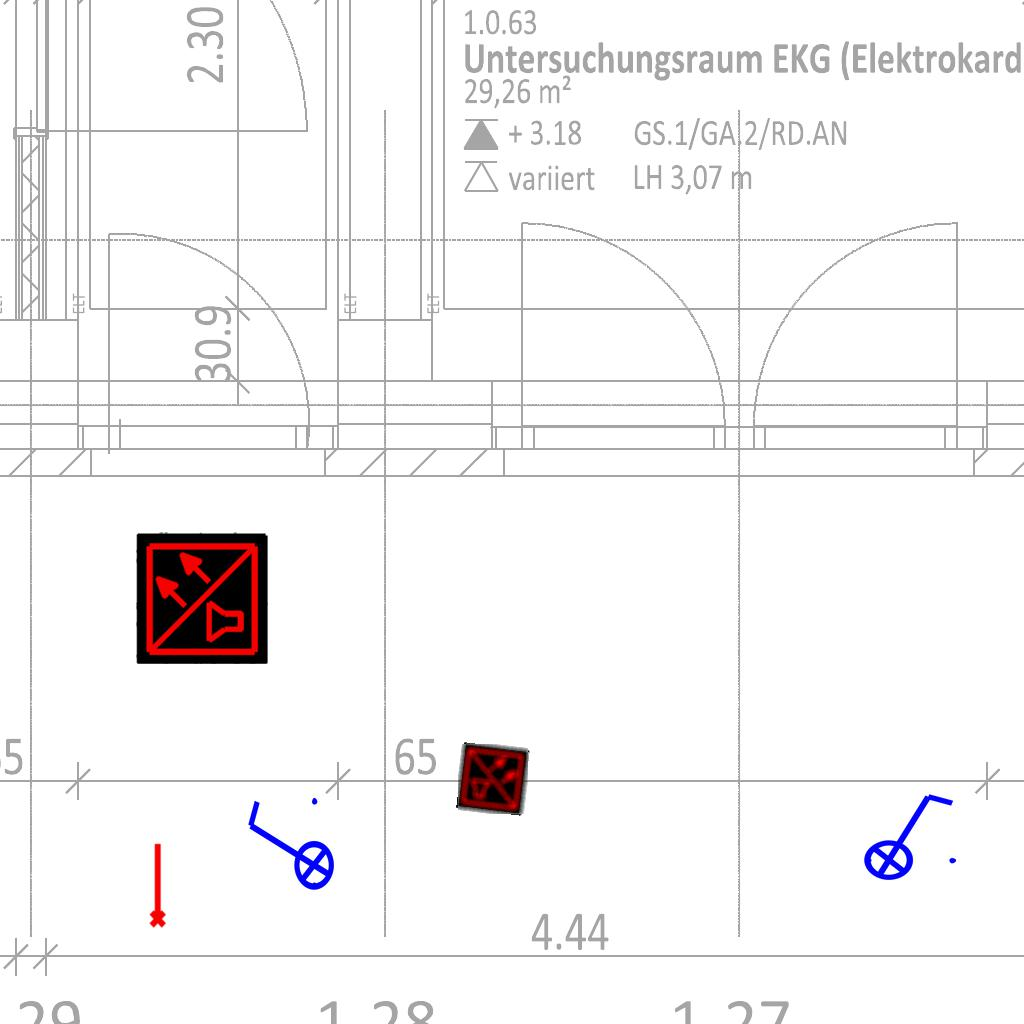ASR_Ansaugoeffnung: (145, 841, 168, 929)
Ausschalter_beleuchtet: (240, 792, 336, 904), (850, 786, 962, 882)
OKW_Multisensormelder_(Kombination_optischer_Rauch-Kahlenmonoxid_Waerme-Melder): (136, 532, 268, 664), (456, 742, 530, 816)
